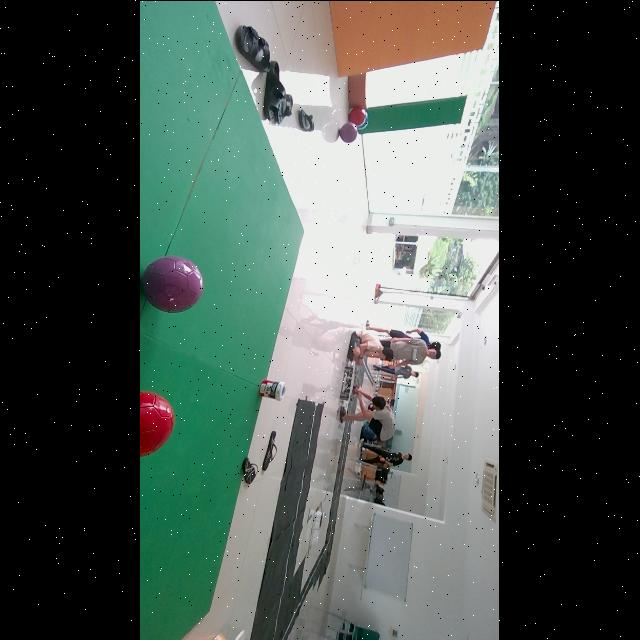P: (142, 255, 204, 313)
R: (140, 391, 175, 457)
